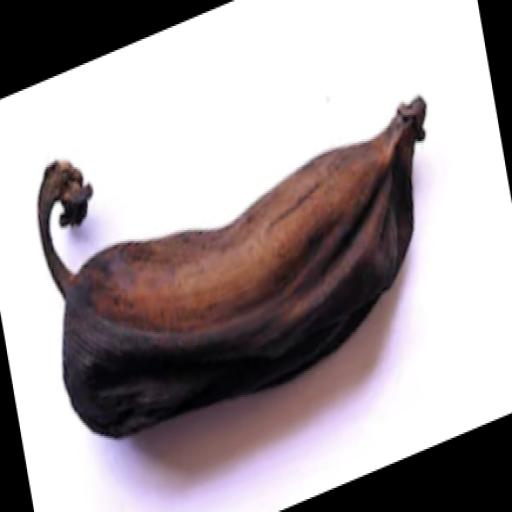banana-overripe: (10, 85, 481, 421)
